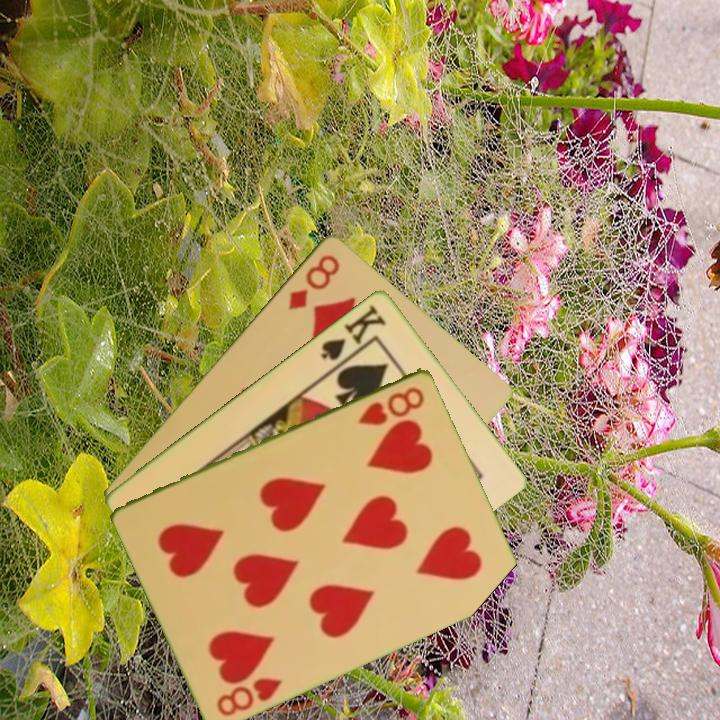8d: (284, 250, 343, 313)
8h: (354, 382, 428, 428), (213, 673, 285, 719)
Ks: (317, 300, 390, 363)
